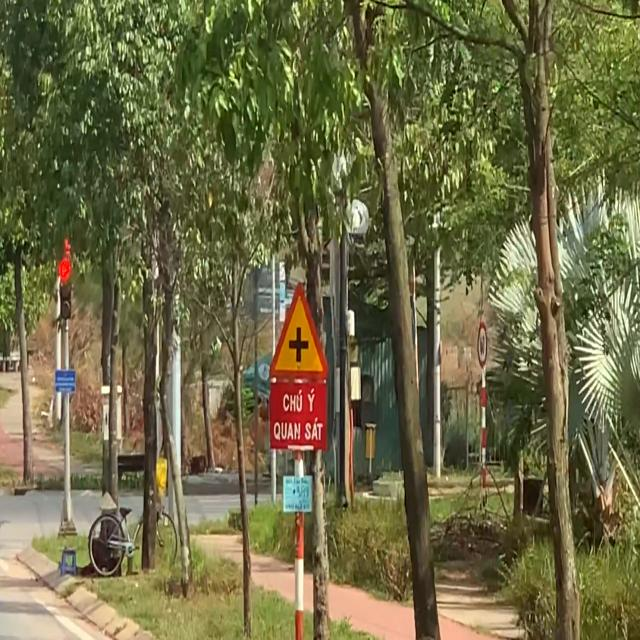Duong giao nhau: (268, 280, 329, 379)
